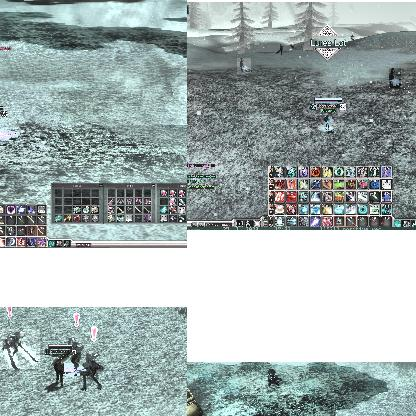caliana: (0, 328, 40, 369), (80, 352, 104, 390), (71, 338, 83, 368), (389, 68, 401, 88), (237, 58, 251, 74), (275, 44, 283, 56), (288, 44, 294, 52), (350, 34, 354, 40)
